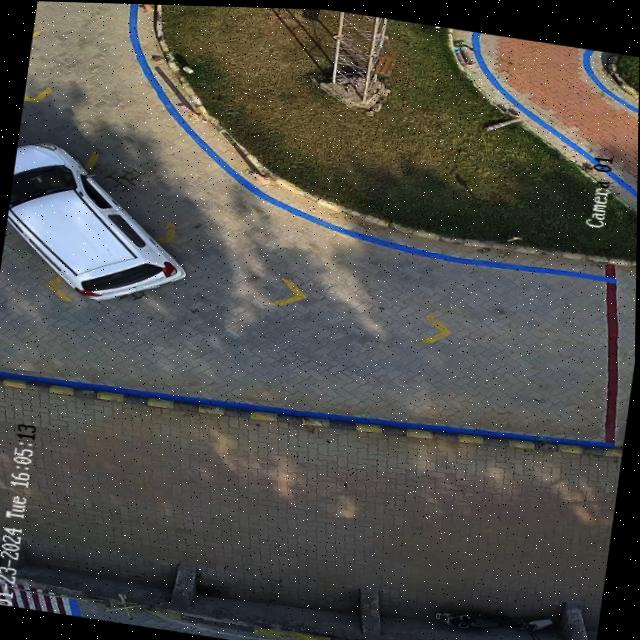car: (7, 141, 187, 298)
